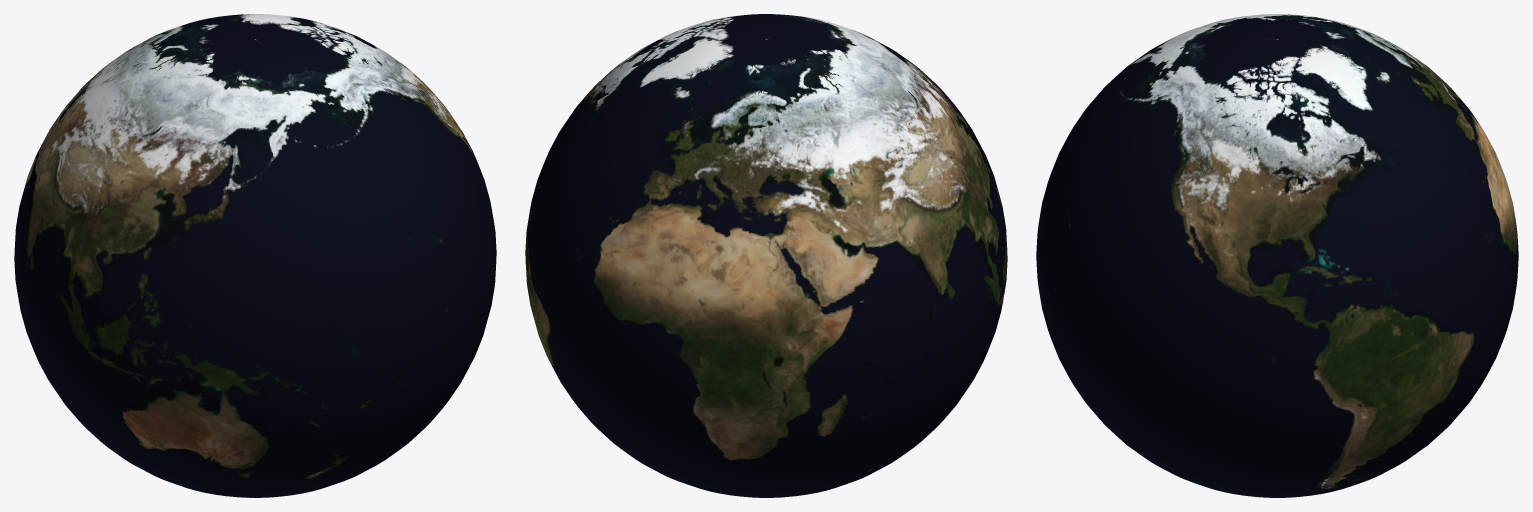
The model's file is Earth.obj.
3 renders of one model, left to right at view 1: azimuth 30°, elevation 25°; view 2: azimuth 150°, elevation 25°; view 3: azimuth 270°, elevation 25°, orthographic.
Visible parts, largest first — view 1: Sphere; view 2: Sphere; view 3: Sphere.
Part boxes in pixels (left/top/right/bottom): Sphere: left=14, top=14, right=496, bottom=497; Sphere: left=525, top=14, right=1007, bottom=497; Sphere: left=1036, top=14, right=1518, bottom=497.
Size of the model in its own units: 1.98 by 1.96 by 1.98.
Materials: 1 (1 with a texture image).
